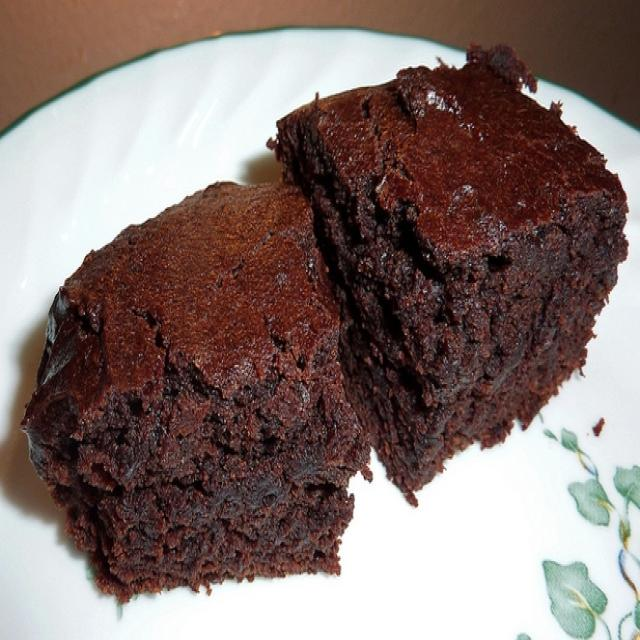蛋糕甜品: (9, 36, 624, 623)
